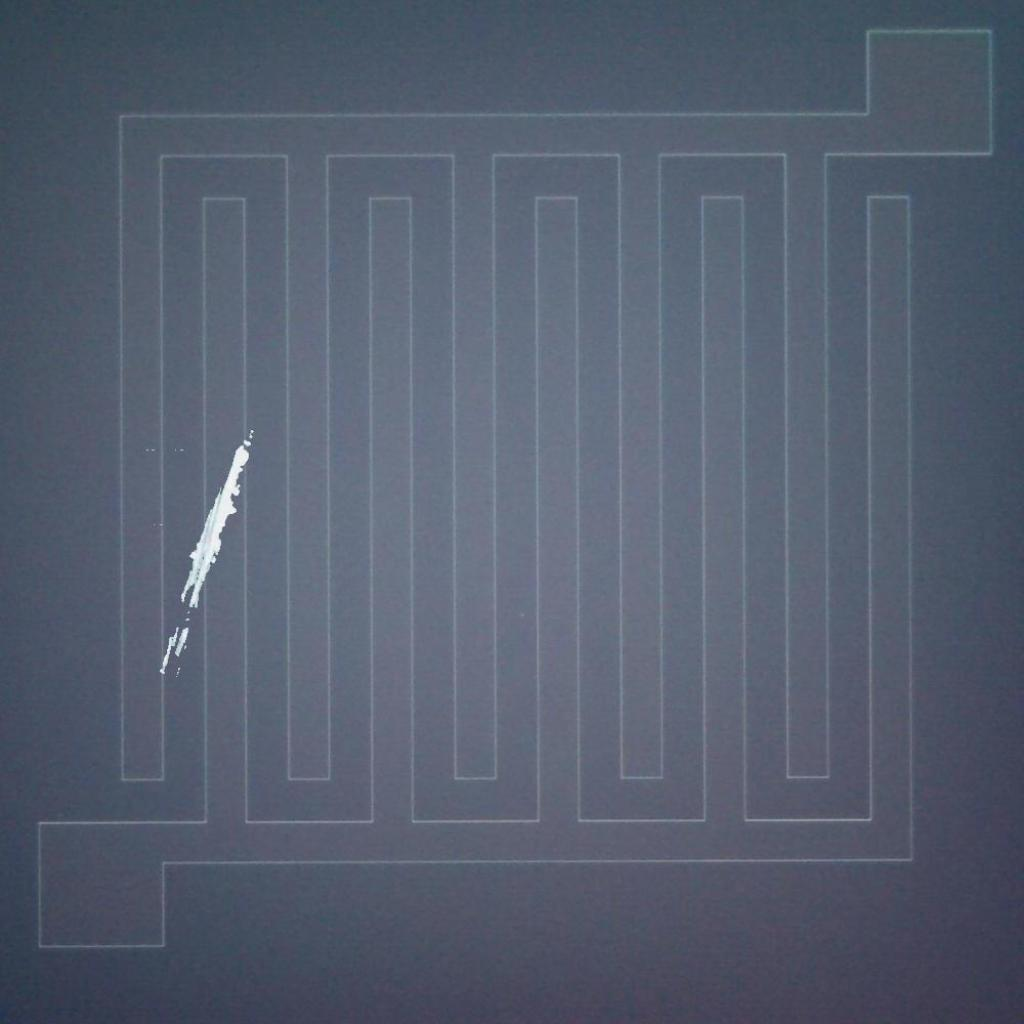scratch: (146, 420, 266, 690)
